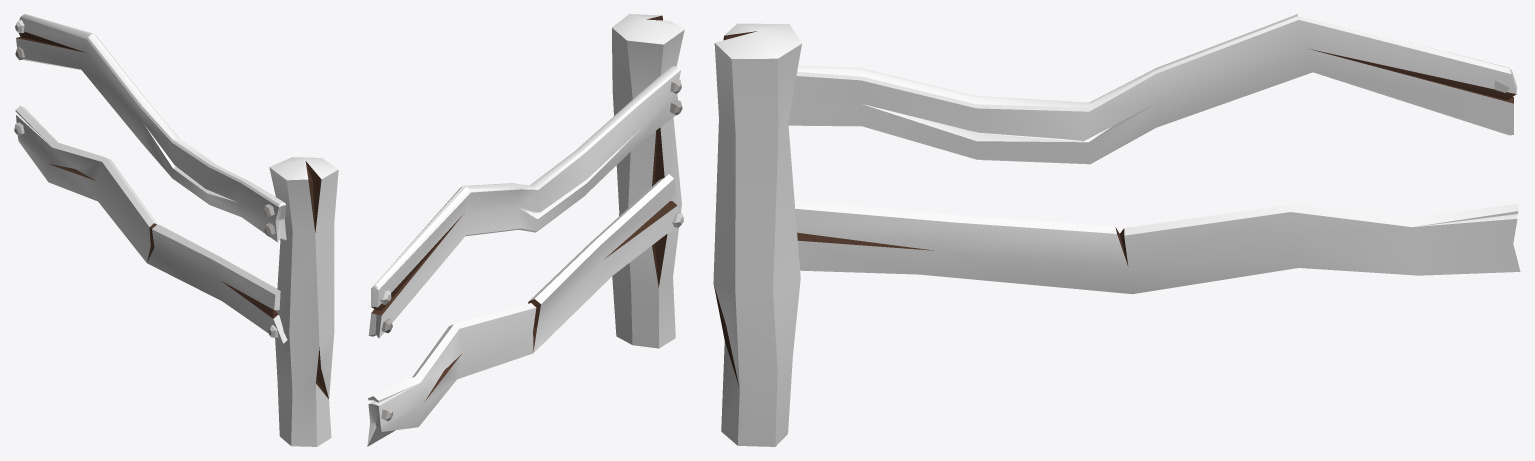
Rendered from valla3.fbx.
The picture shows the model from 3 angles, left to right: view 1: azimuth 30°, elevation 25°; view 2: azimuth 150°, elevation 25°; view 3: azimuth 270°, elevation 25°; orthographic projection. The views are drawn at different scales.
Parts seen in each view (by area): view 1: vallaLargaDerecha1; view 2: vallaLargaDerecha1; view 3: vallaLargaDerecha1.
Part boxes in pixels (left/top/right/bottom): vallaLargaDerecha1: left=14, top=14, right=338, bottom=446; vallaLargaDerecha1: left=367, top=14, right=684, bottom=446; vallaLargaDerecha1: left=713, top=14, right=1520, bottom=446.
Bounding box in the file's own units: 137 × 611 × 1113.
